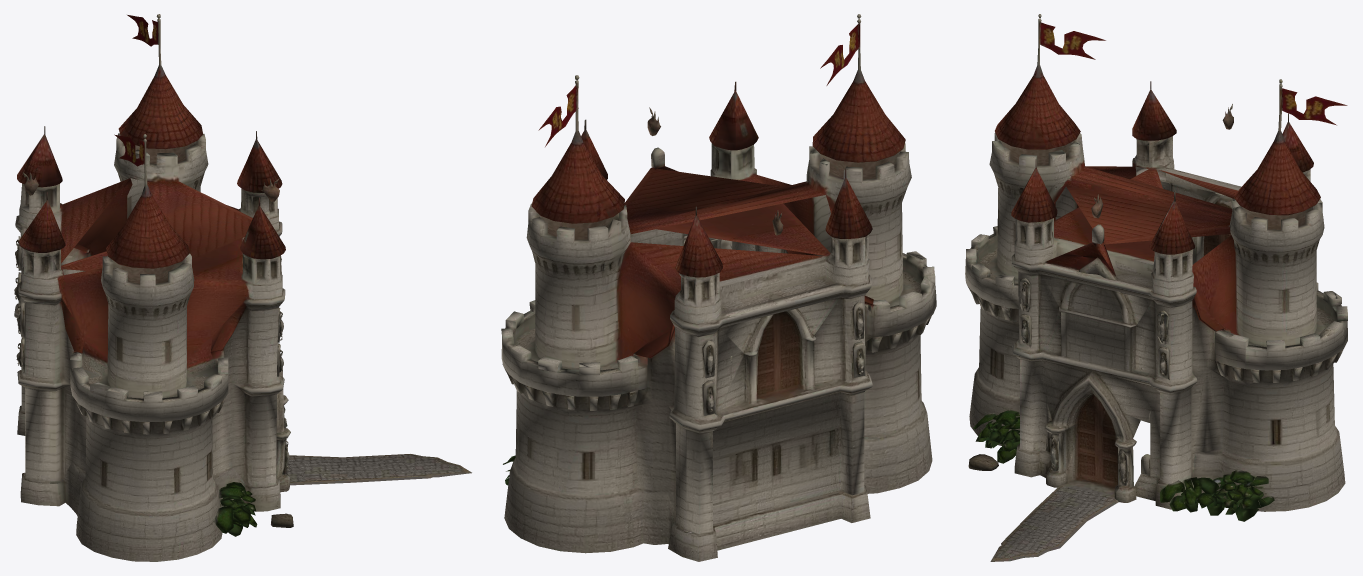
Rendered from noble-heights.glb.
3 renders of one model, left to right at view 1: azimuth 30°, elevation 25°; view 2: azimuth 150°, elevation 25°; view 3: azimuth 270°, elevation 25°, orthographic. The views are drawn at different scales.
Visible parts, largest first — view 1: tripo_node_478ec64d-ec72-4a8d-9347-4765f69bdc1b; view 2: tripo_node_478ec64d-ec72-4a8d-9347-4765f69bdc1b; view 3: tripo_node_478ec64d-ec72-4a8d-9347-4765f69bdc1b.
Boxes of the visible parts, bbox=[...] form: tripo_node_478ec64d-ec72-4a8d-9347-4765f69bdc1b: bbox=[14, 14, 471, 561]; tripo_node_478ec64d-ec72-4a8d-9347-4765f69bdc1b: bbox=[501, 14, 936, 561]; tripo_node_478ec64d-ec72-4a8d-9347-4765f69bdc1b: bbox=[965, 14, 1347, 561].
Bounding box in the file's own units: 14.65 × 15 × 12.95.
1 material, 1 textured.
